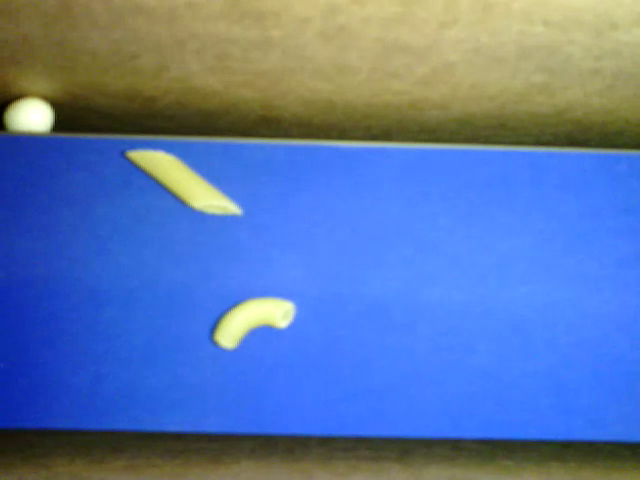elbow: (211, 296, 297, 350)
penne: (124, 148, 243, 215)
